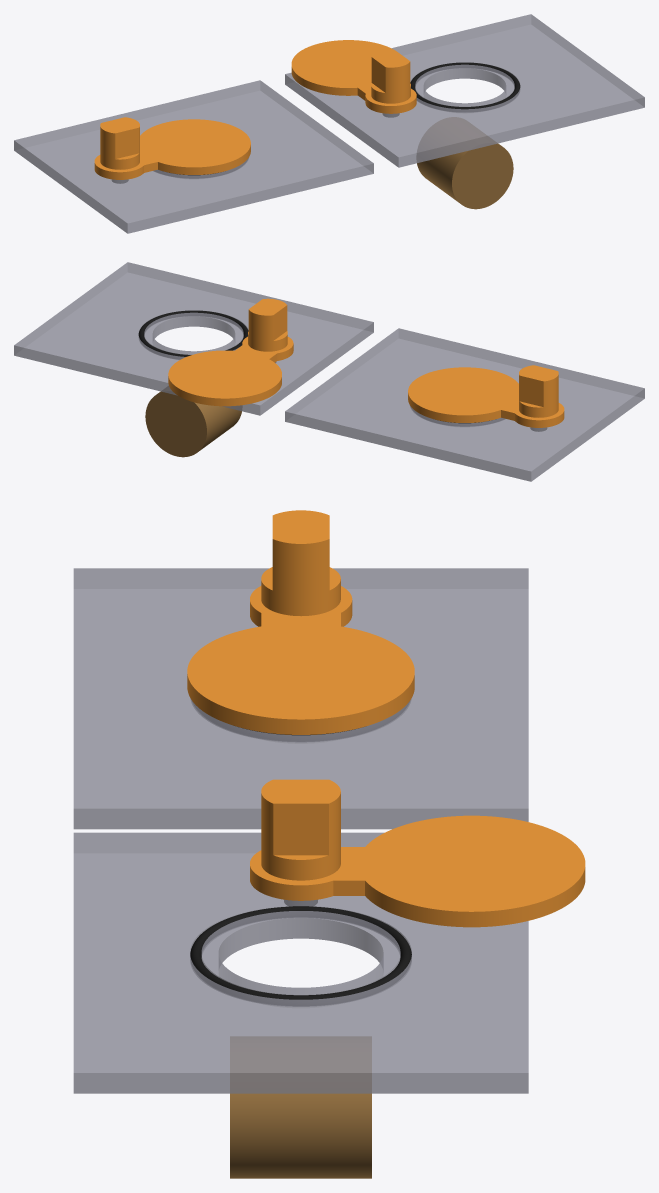
3 views of the same model, one above another, from view 1: azimuth 30°, elevation 25°; view 2: azimuth 150°, elevation 25°; view 3: azimuth 270°, elevation 25° (orthographic). The views are drawn at different scales.
Visible parts, largest first — view 1: lid_open, lid_closed, cover_closed, cover_open, pod, oring_open; view 2: lid_closed, lid_open, cover_closed, cover_open, pod, oring_open; view 3: lid_open, lid_closed, cover_open, cover_closed, pod, oring_open, oring_closed.
Part boxes in pixels (x1,y1,x2,y2): lid_open: (285,14,644,167); lid_closed: (14,80,373,233); cover_closed: (94,117,250,179); cover_open: (291,40,416,113); pod: (417,117,513,209); oring_open: (410,62,520,111); lid_closed: (285,328,644,481); lid_open: (14,262,373,415); cover_closed: (408,365,564,427); cover_open: (168,298,293,406); pod: (145,386,241,457); oring_open: (138,310,248,358); lid_open: (73,832,528,1093); lid_closed: (73,568,528,829); cover_open: (250,779,585,927); cover_closed: (187,510,414,734); pod: (230,1037,371,1178); oring_open: (190,906,411,1005); oring_closed: (193,703,408,741).
Size of the model in its own units: 210 by 59.8 by 90.
